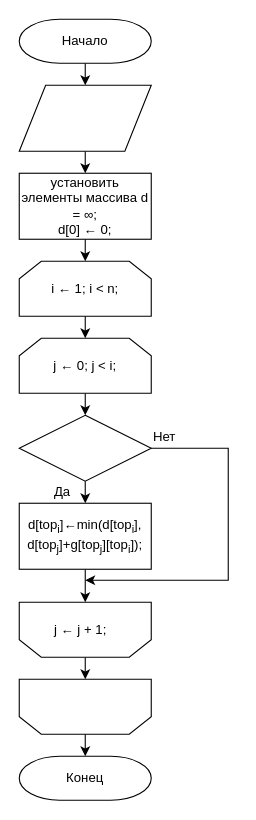
Image size: 256x820. Some labels were removed from this diagram. Each missing label, with the box of its shape:
g[top j ][top i ] ≠ 0: (18, 414, 151, 481)
i ← i + 1;: (18, 678, 151, 734)
Ввод g[], top[]: (18, 84, 151, 151)
